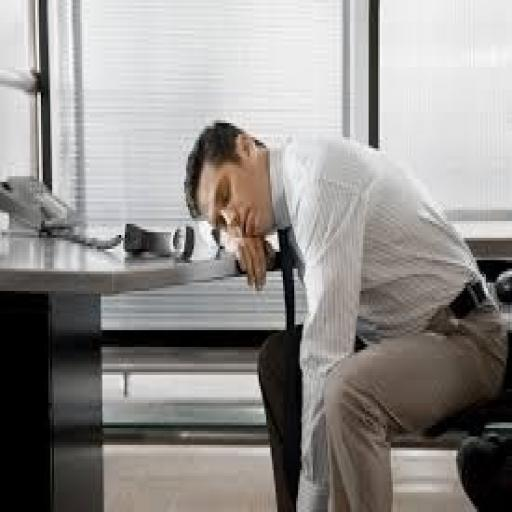sleeping: (183, 115, 510, 509)
